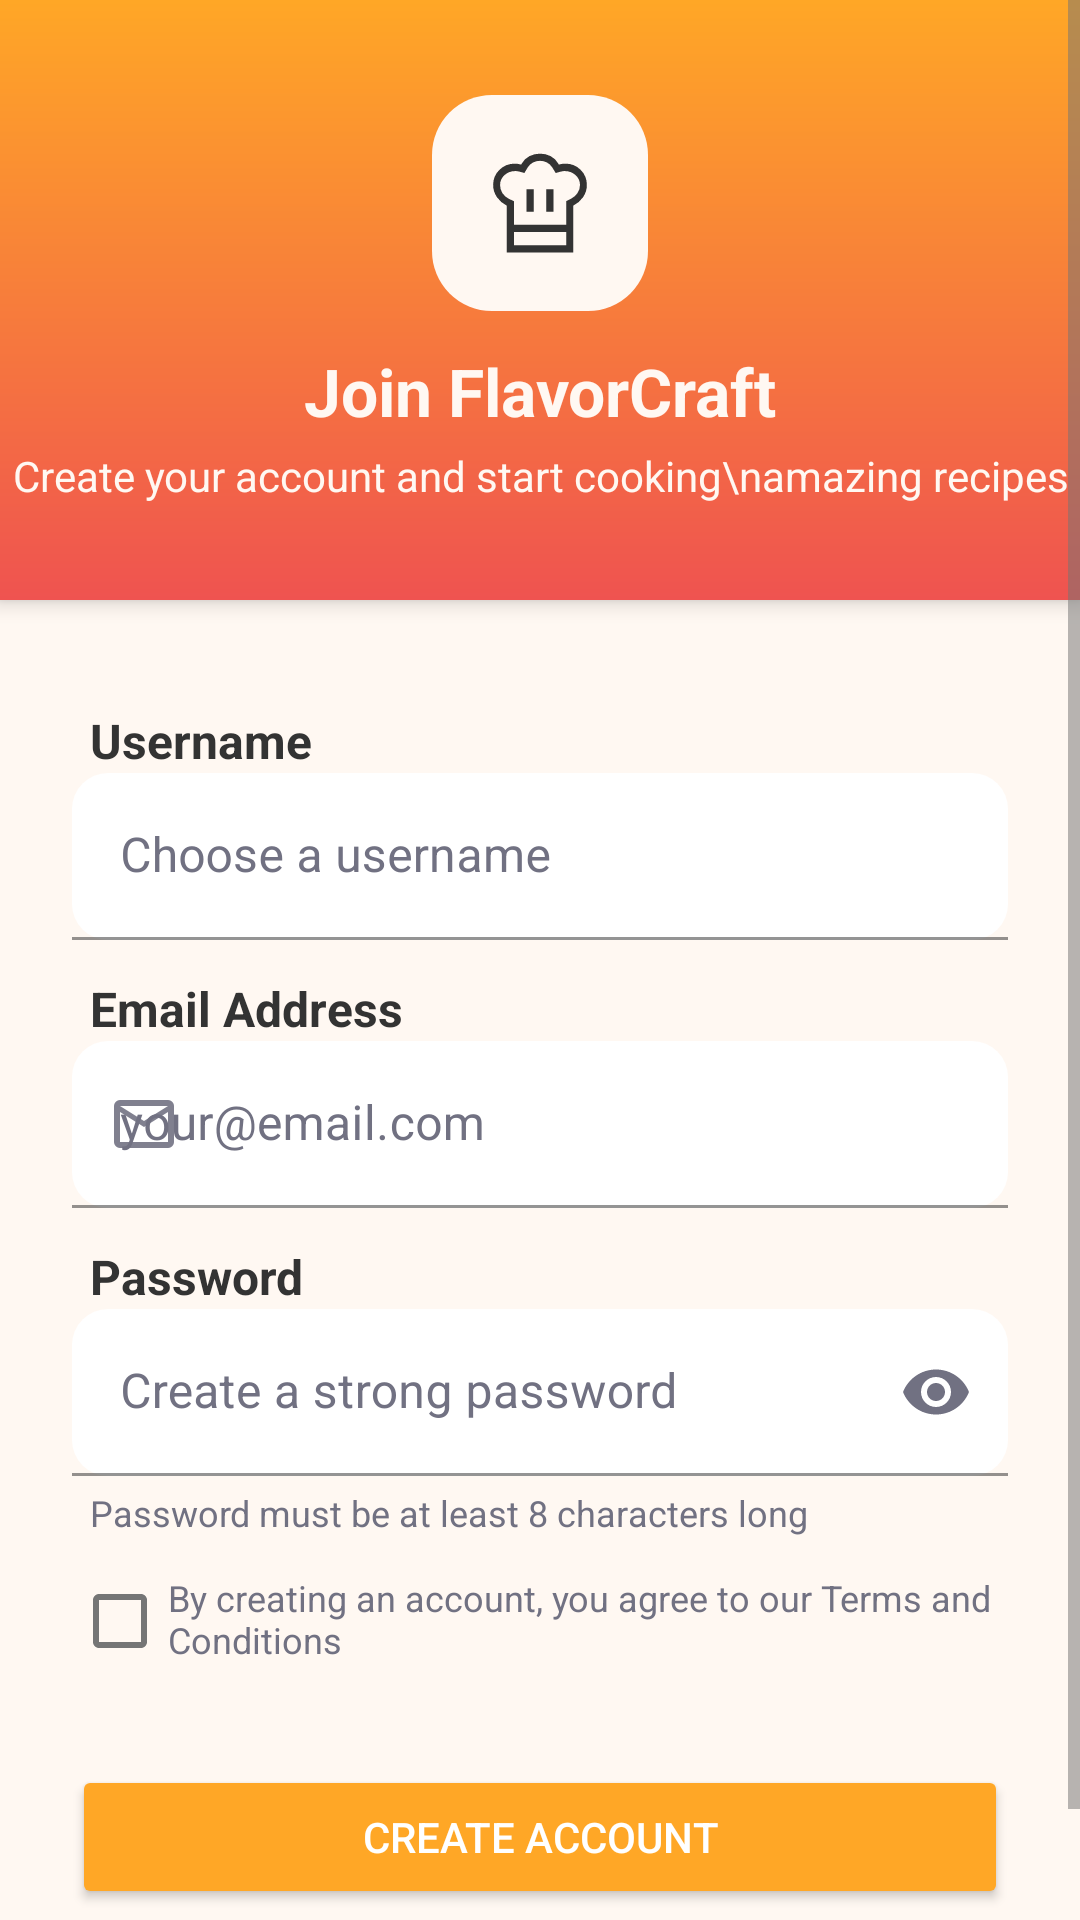

Screen size 1080×1920. Icon name, then its box in pixels as (x1, y1, x2, y2):
Chef Hat Icon: (432, 95, 648, 311)
